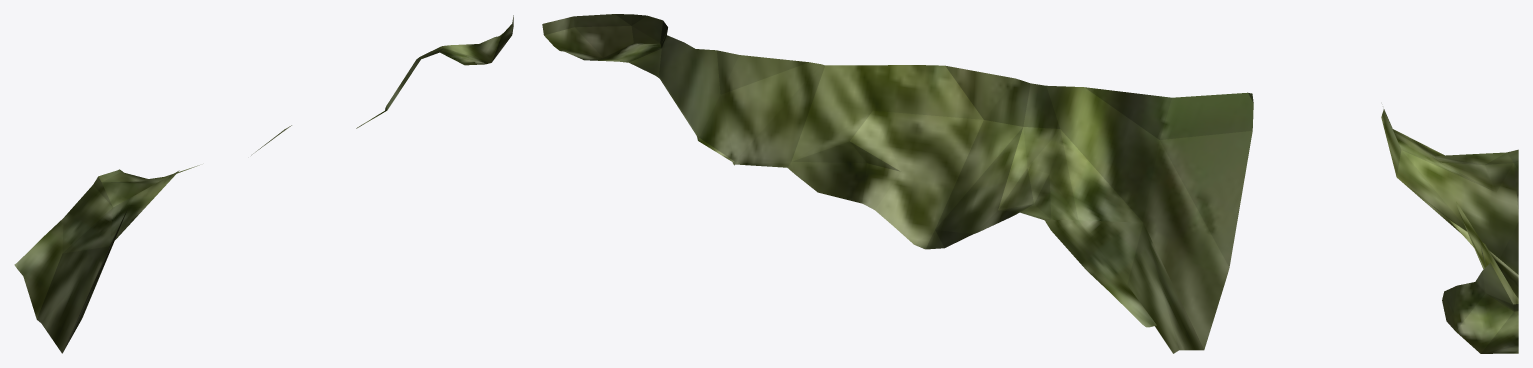
3 views of the same model, side by side, from view 1: azimuth 30°, elevation 25°; view 2: azimuth 150°, elevation 25°; view 3: azimuth 270°, elevation 25° (orthographic). The views are drawn at different scales.
Size of the model in its own units: 2.03 by 0.7125 by 0.627.
1 material, 1 textured.
